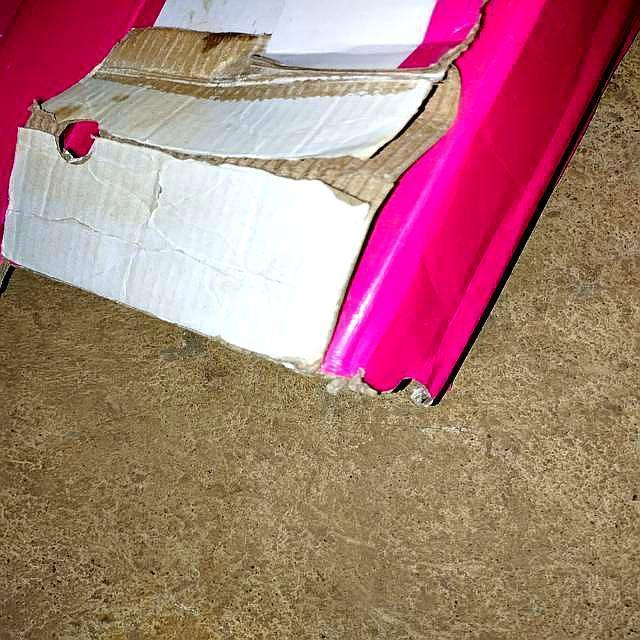Biodegradable: (1, 1, 640, 397)
